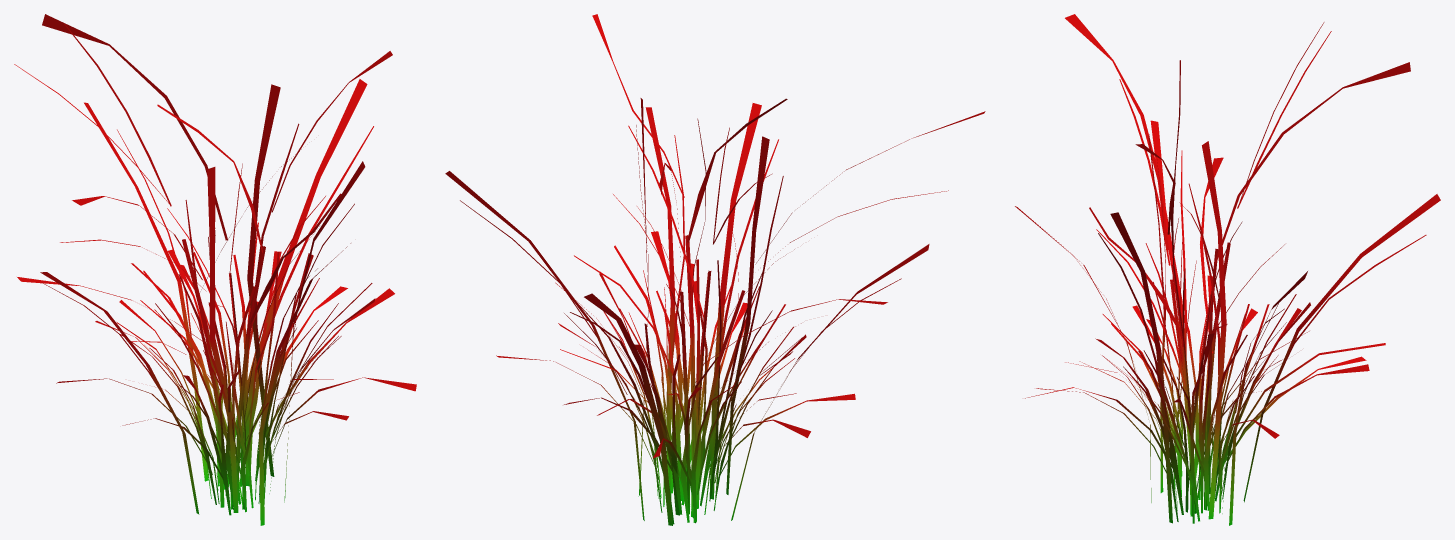
The model's file is Rough Meadow Grass_LOD2_Var5_skFjJ.fbx.
3 views of the same model, side by side, from view 1: azimuth 30°, elevation 25°; view 2: azimuth 150°, elevation 25°; view 3: azimuth 270°, elevation 25° (orthographic). The views are drawn at different scales.
Parts seen in each view (by area): view 1: _66b5_Var5_LOD2; view 2: _66b5_Var5_LOD2; view 3: _66b5_Var5_LOD2.
Boxes of the visible parts, x1,y1,x2,y2 form: _66b5_Var5_LOD2: [14, 14, 416, 525]; _66b5_Var5_LOD2: [445, 14, 985, 525]; _66b5_Var5_LOD2: [1015, 14, 1440, 525].
Bounding box in the file's own units: 77.23 × 82.05 × 71.62.
